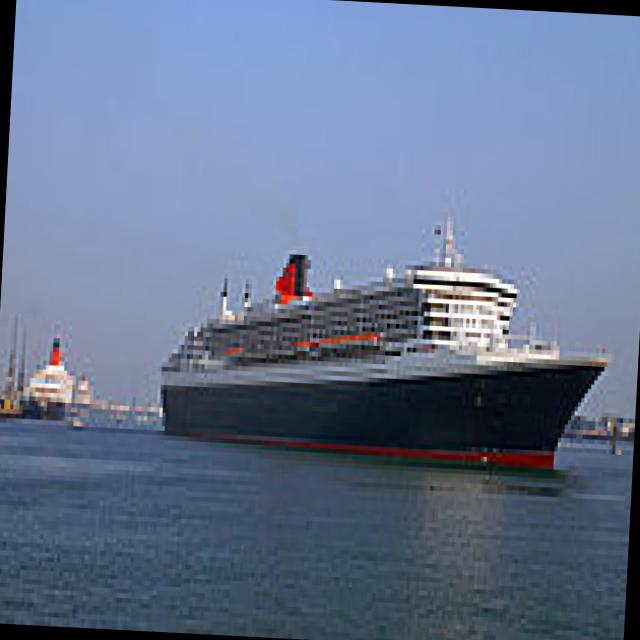boat: (148, 304, 616, 486)
